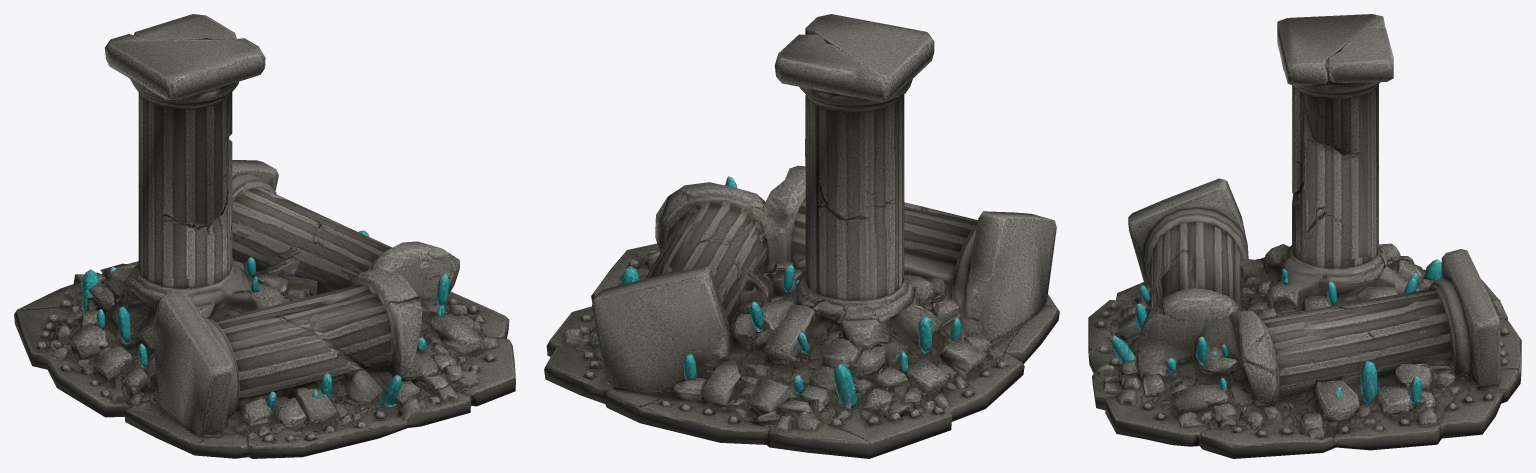
File: tripo_convert_6b3275a8-ce7c-4ccb-91eb-15e3f7e24084.fbx
The picture shows the model from 3 angles, left to right: view 1: azimuth 30°, elevation 25°; view 2: azimuth 150°, elevation 25°; view 3: azimuth 270°, elevation 25°; orthographic projection. The views are drawn at different scales.
Visible parts, largest first — view 1: tripo_node_6b3275a8; view 2: tripo_node_6b3275a8; view 3: tripo_node_6b3275a8.
Boxes of the visible parts, x1=… form: tripo_node_6b3275a8: x1=14, y1=14, x2=515, y2=458; tripo_node_6b3275a8: x1=544, y1=14, x2=1059, y2=458; tripo_node_6b3275a8: x1=1088, y1=14, x2=1521, y2=458.
Bounding box in the file's own units: 0.998 × 0.752 × 0.998.
Materials: 1 (1 with a texture image).
